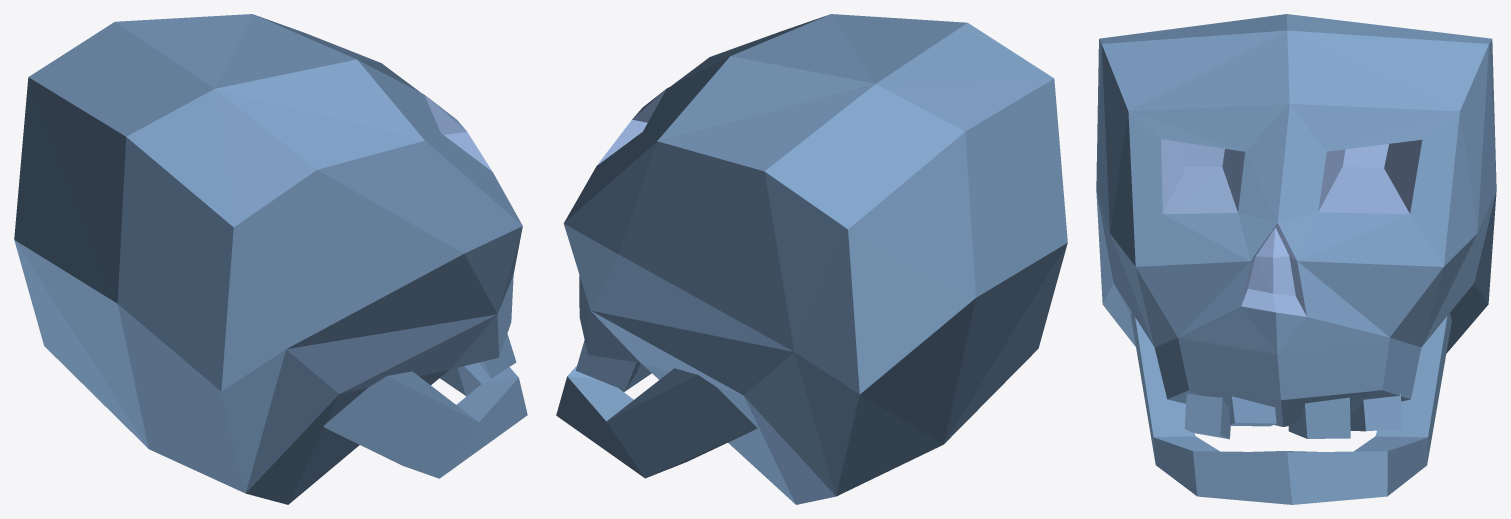
Rendered from CajaPequeña4.FBX.
3 views of the same model, side by side, from view 1: azimuth 30°, elevation 25°; view 2: azimuth 150°, elevation 25°; view 3: azimuth 270°, elevation 25° (orthographic). The views are drawn at different scales.
Parts seen in each view (by area): view 1: Calaveradecristal; view 2: Calaveradecristal; view 3: Calaveradecristal.
Part boxes in pixels (left/top/right/bottom): Calaveradecristal: left=14, top=14, right=527, bottom=504; Calaveradecristal: left=556, top=14, right=1067, bottom=504; Calaveradecristal: left=1096, top=14, right=1496, bottom=504.
Size of the model in its own units: 105 by 99.98 by 99.67.
1 material, 1 textured.
